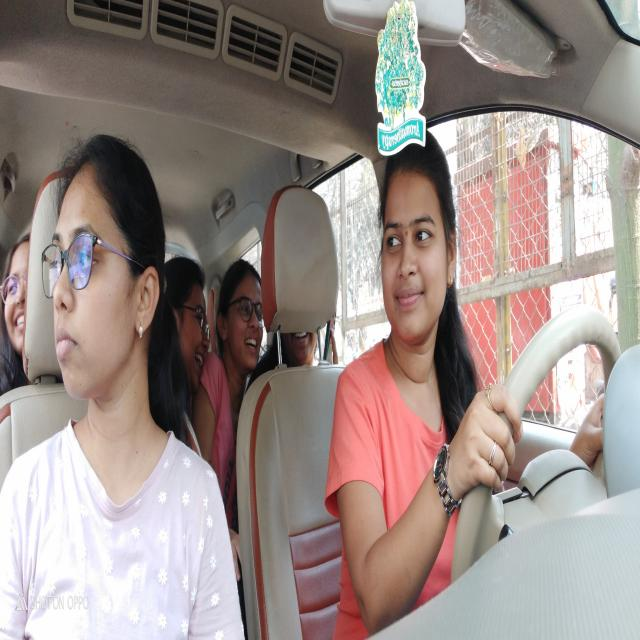LeftRight: (47, 176, 160, 384), (377, 167, 458, 346)
person: (176, 265, 211, 398), (224, 266, 263, 369), (6, 242, 28, 352), (285, 331, 320, 360)
